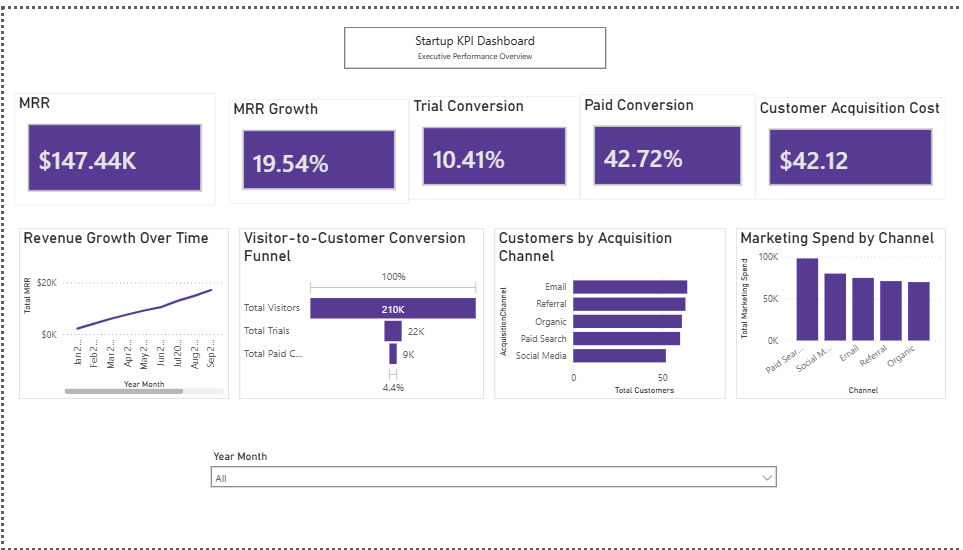

The dashboard page shown, as its layout file describes it:
{"tool":"powerbi","page":{"name":"Executive Overview","canvas":[1280,720],"ordinal":0},"visuals":[{"type":"cardVisual","title":"MRR","fields":{"Data":["Measures (2).Total MRR"]},"box":[14,112,268,150],"z":0},{"type":"cardVisual","title":"MRR Growth","fields":{"Data":["Measures (2).MRR Growth %"]},"box":[300,120,240,140],"z":1000},{"type":"cardVisual","title":"Trial Conversion","fields":{"Data":["Measures (2).Trial Conversion Rate"]},"box":[540,116,228,138],"z":2000},{"type":"cardVisual","title":"Paid Conversion","fields":{"Data":["Measures (2).Paid Conversion Rate"]},"box":[768,114,234,140],"z":3000},{"type":"cardVisual","title":"Customer Acquisition Cost","fields":{"Data":["Measures (2).CAC"]},"box":[1002,118,254,136],"z":4000},{"type":"textbox","box":[453.8,23.8,348.8,55],"z":5000},{"type":"lineChart","title":"Revenue Growth Over Time","fields":{"Category":["Date.Year Month"],"Y":["Measures (2).Total MRR"]},"box":[20,292.2,280,227.8],"z":6000},{"type":"funnel","title":"Visitor-to-Customer Conversion Funnel","fields":{"Y":["Measures (2).Total Visitors","Measures (2).Total Trials","Measures (2).Total Paid Customers"]},"box":[314,292,326,228],"z":7000},{"type":"clusteredColumnChart","title":"Marketing Spend by Channel","fields":{"Category":["marketing.Channel"],"Y":["Measures (2).Total Marketing Spend"]},"box":[976,292,280,228],"z":8000},{"type":"clusteredBarChart","title":"Customers by Acquisition Channel","fields":{"Category":["customers.AcquisitionChannel"],"Y":["Measures (2).Total Customers"]},"box":[654,292,308,228],"z":9000},{"type":"slicer","fields":{"Values":["Date.Year Month"]},"box":[266,582,774,82],"z":10000}]}

Visuals, with their boxes in screenshot pixels (x1, y1, x2, y2), scaled from the page's 1280x720 canvas onto the 963x550 screenshot:
"MRR" cardVisual: (left=11, top=86, right=212, bottom=200)
"MRR Growth" cardVisual: (left=226, top=92, right=406, bottom=199)
"Trial Conversion" cardVisual: (left=406, top=89, right=578, bottom=194)
"Paid Conversion" cardVisual: (left=578, top=87, right=754, bottom=194)
"Customer Acquisition Cost" cardVisual: (left=754, top=90, right=945, bottom=194)
textbox: (left=341, top=18, right=604, bottom=60)
"Revenue Growth Over Time" lineChart: (left=15, top=223, right=226, bottom=397)
"Visitor-to-Customer Conversion Funnel" funnel: (left=236, top=223, right=482, bottom=397)
"Marketing Spend by Channel" clusteredColumnChart: (left=734, top=223, right=945, bottom=397)
"Customers by Acquisition Channel" clusteredBarChart: (left=492, top=223, right=724, bottom=397)
slicer - Date.Year Month: (left=200, top=445, right=782, bottom=507)
